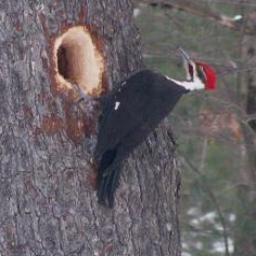Woodpecker: (64, 46, 220, 209)
